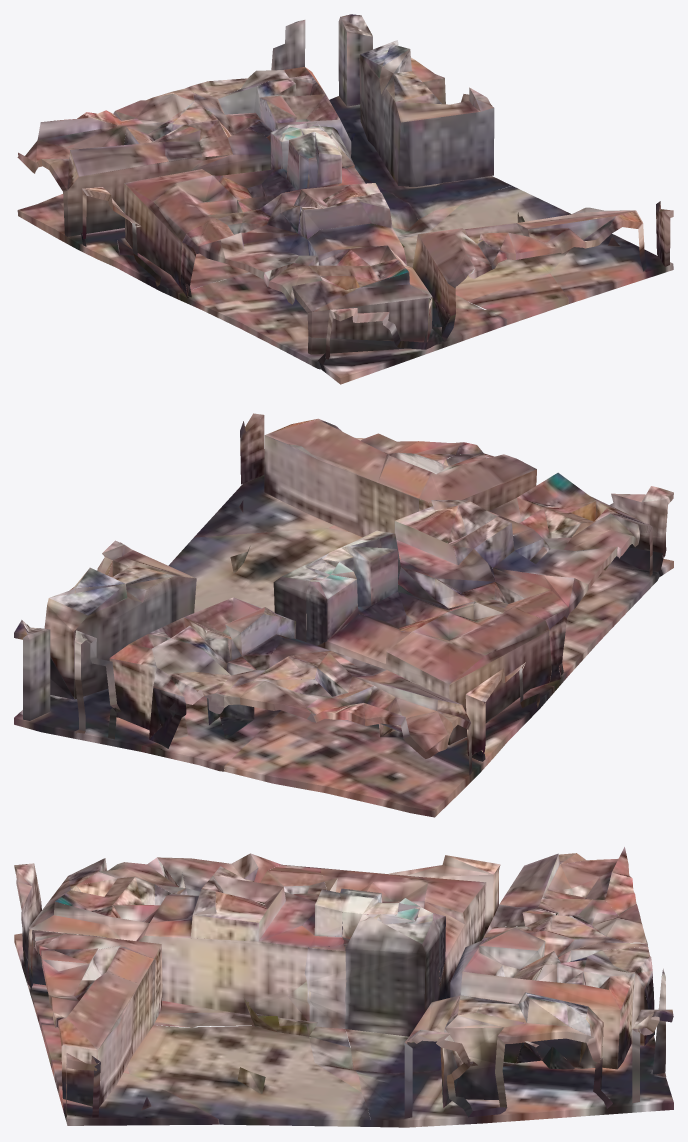
The picture shows the model from 3 angles, top to bottom: view 1: azimuth 30°, elevation 25°; view 2: azimuth 150°, elevation 25°; view 3: azimuth 270°, elevation 25°; orthographic projection. The views are drawn at different scales.
Visible parts, largest first — view 1: Mesh_0; view 2: Mesh_0; view 3: Mesh_0.
Boxes of the visible parts, left/top/right/bottom form: Mesh_0: left=17, top=14, right=673, bottom=384; Mesh_0: left=14, top=413, right=673, bottom=817; Mesh_0: left=14, top=847, right=673, bottom=1127.
Size of the model in its own units: 134 by 37.08 by 165.
2 materials, 2 textured.
